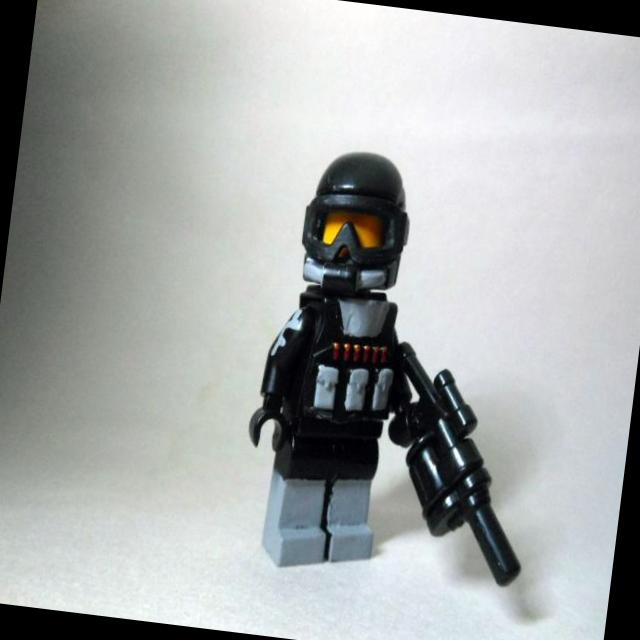Gun: (388, 342, 520, 585)
